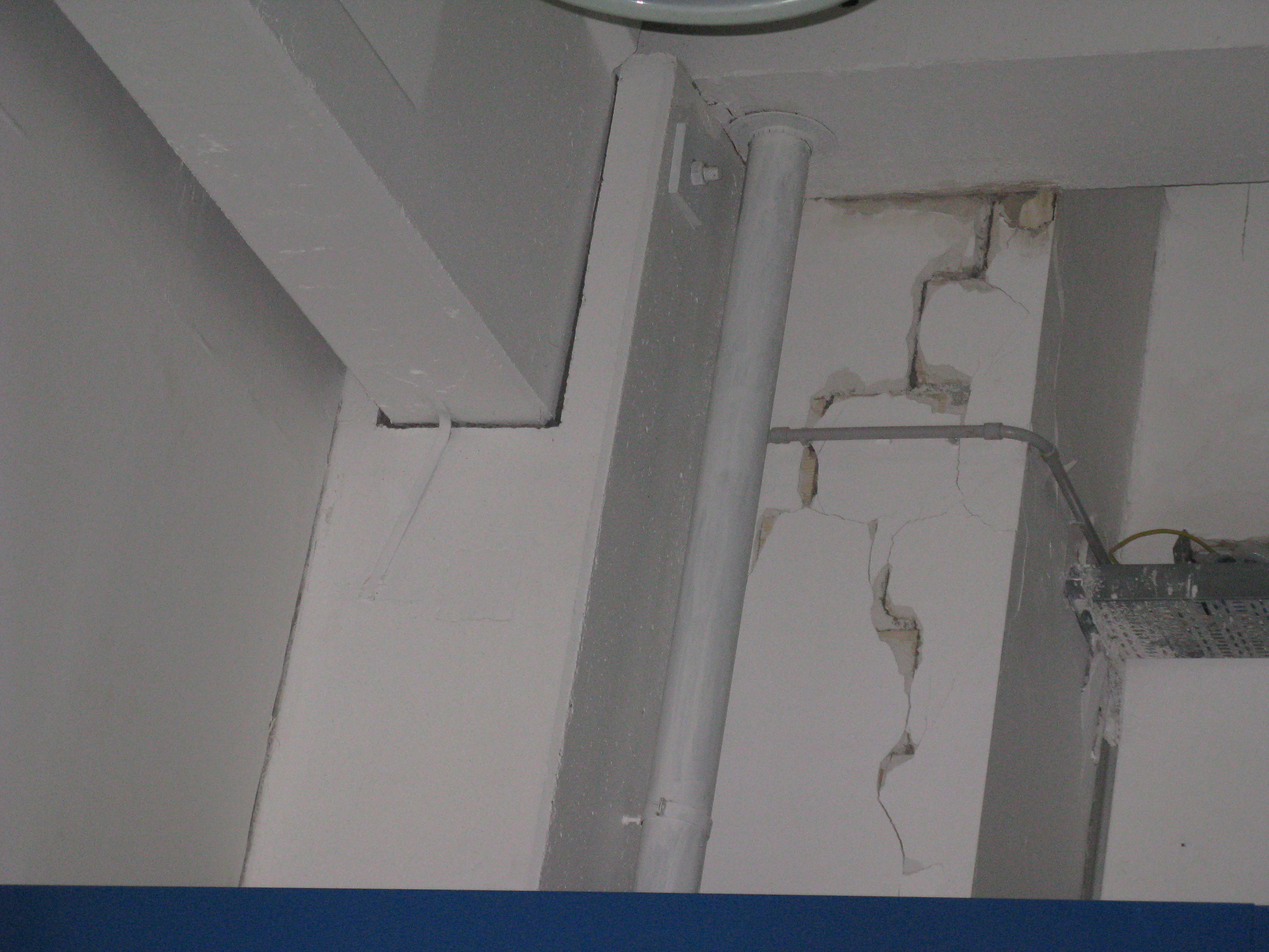Crack: (747, 439, 1018, 894), (799, 194, 1042, 424), (805, 182, 1062, 210)
Spalling: (1073, 641, 1112, 791)
